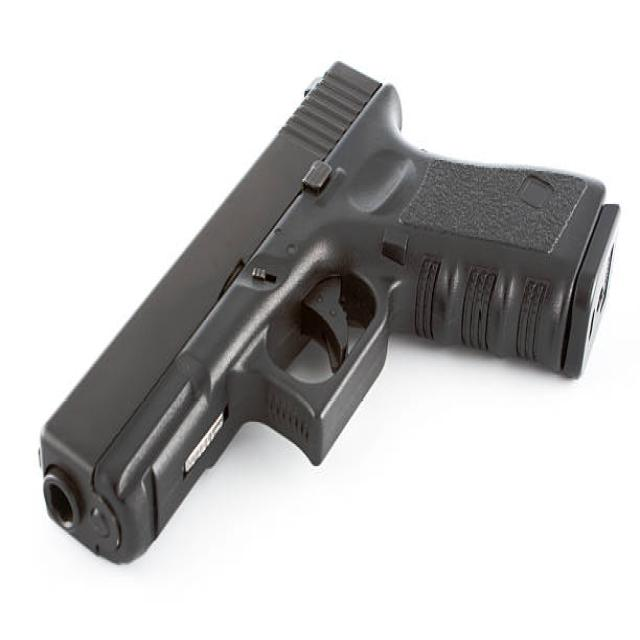pistol: (32, 58, 623, 575)
